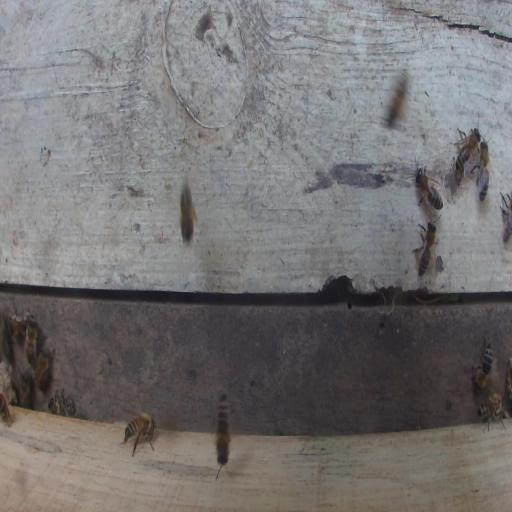bee: (121, 411, 156, 458), (415, 160, 443, 216), (454, 127, 482, 181), (385, 68, 410, 127), (412, 220, 436, 279), (471, 333, 493, 392), (477, 391, 508, 432), (180, 175, 196, 244), (216, 391, 230, 468), (476, 138, 491, 204), (48, 388, 77, 417), (34, 347, 51, 393), (6, 312, 32, 342), (25, 315, 38, 365), (500, 192, 512, 242), (19, 374, 31, 408), (0, 393, 12, 425)
